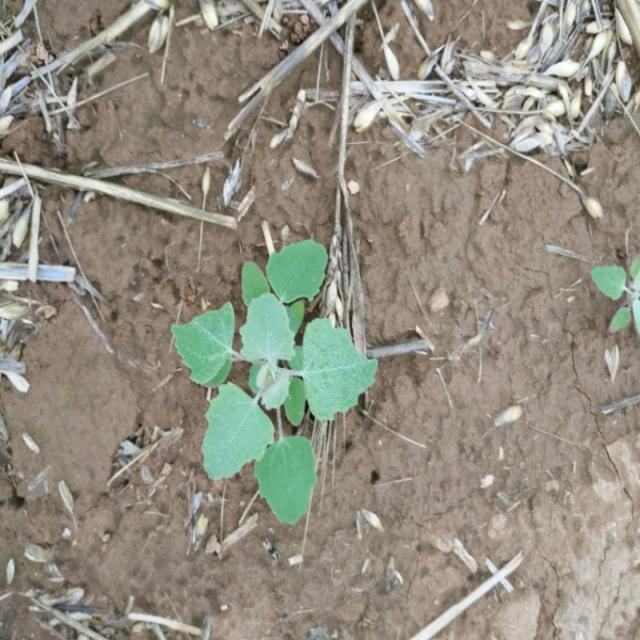goosefoots: (172, 211, 366, 541)
